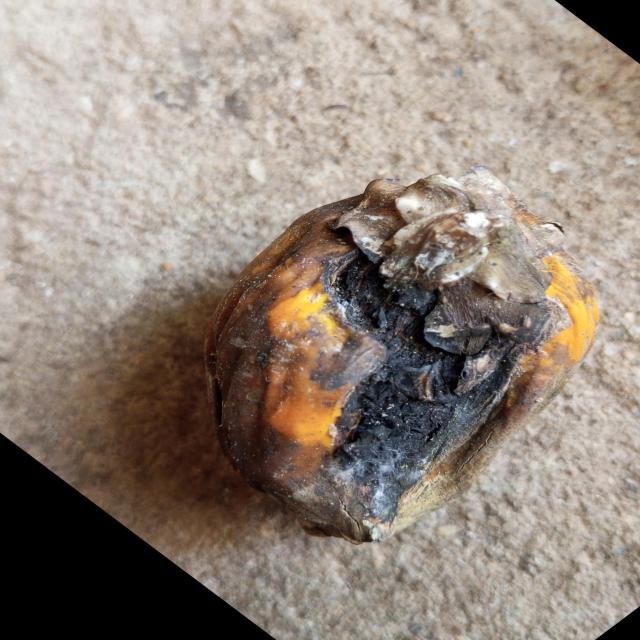damaged: (204, 169, 601, 546)
